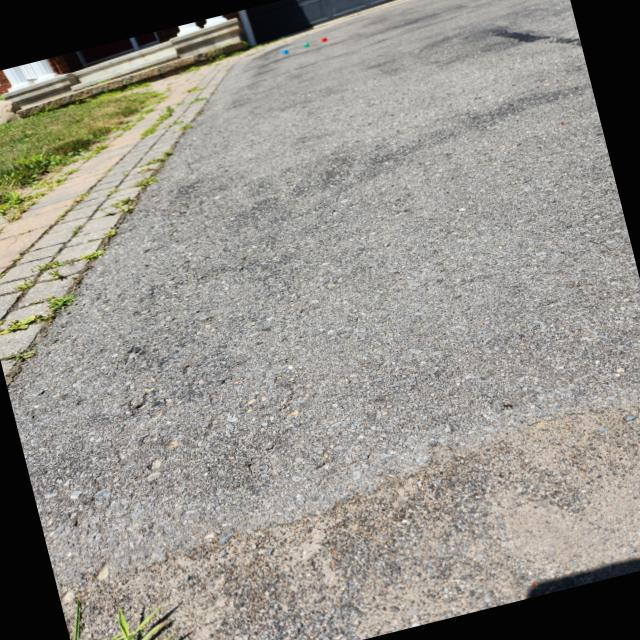bluecube: (282, 49, 288, 54)
green cube: (303, 43, 309, 47)
red cube: (321, 37, 327, 41)
